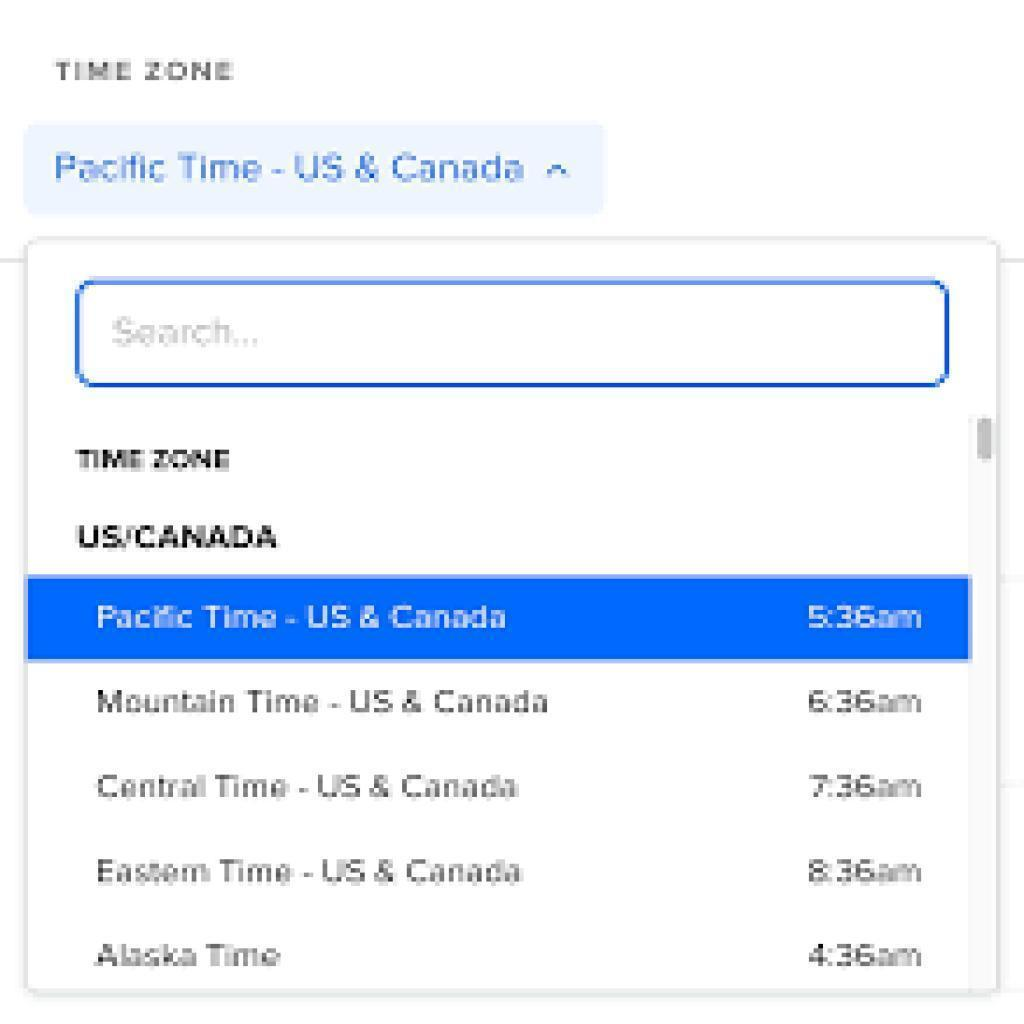dropdown: (30, 122, 588, 223)
input: (76, 277, 950, 389)
